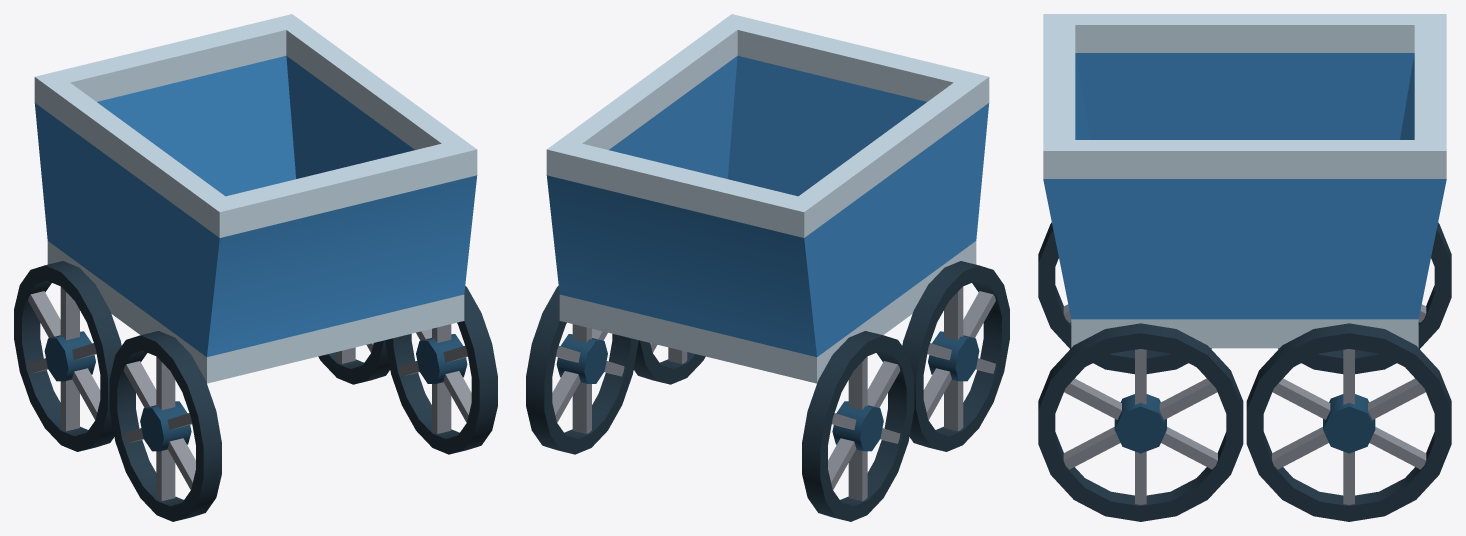
Rendered from cart.glb.
3 renders of one model, left to right at view 1: azimuth 30°, elevation 25°; view 2: azimuth 150°, elevation 25°; view 3: azimuth 270°, elevation 25°, orthographic. The views are drawn at different scales.
Parts seen in each view (by area): view 1: cart_rig; view 2: cart_rig; view 3: cart_rig.
Part boxes in pixels (bbox=[...]): cart_rig: bbox=[14, 14, 497, 521]; cart_rig: bbox=[526, 14, 1009, 521]; cart_rig: bbox=[1038, 14, 1451, 521].
Size of the model in its own units: 0.66 by 0.6885 by 0.7145.
